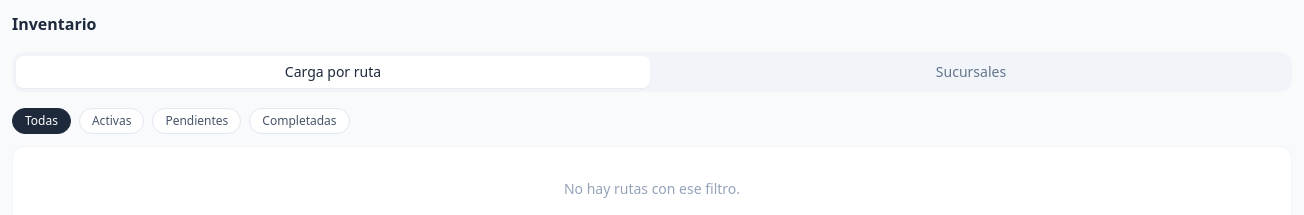
Test: Inventory page › shows branch without address (no address line)
Click the button "Sucursales" at (971, 72), box [654,56,1288,88]
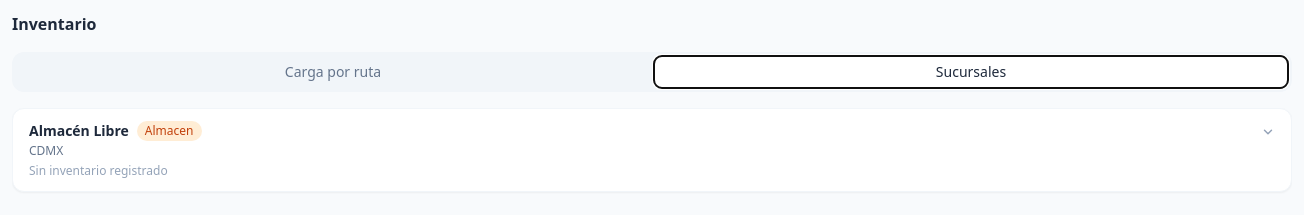
expect the text "Almacén Libre" is shown: met, box [29,121,129,141]
